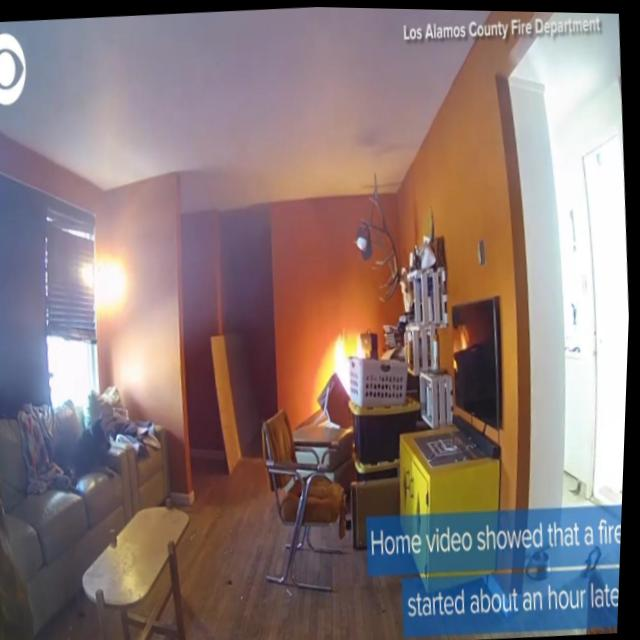fire: (331, 318, 373, 398)
